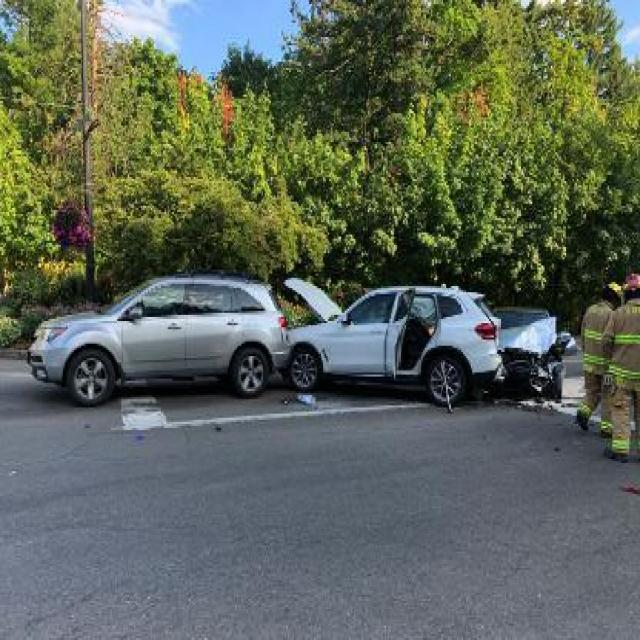accident: (28, 238, 504, 418), (284, 280, 570, 409)
